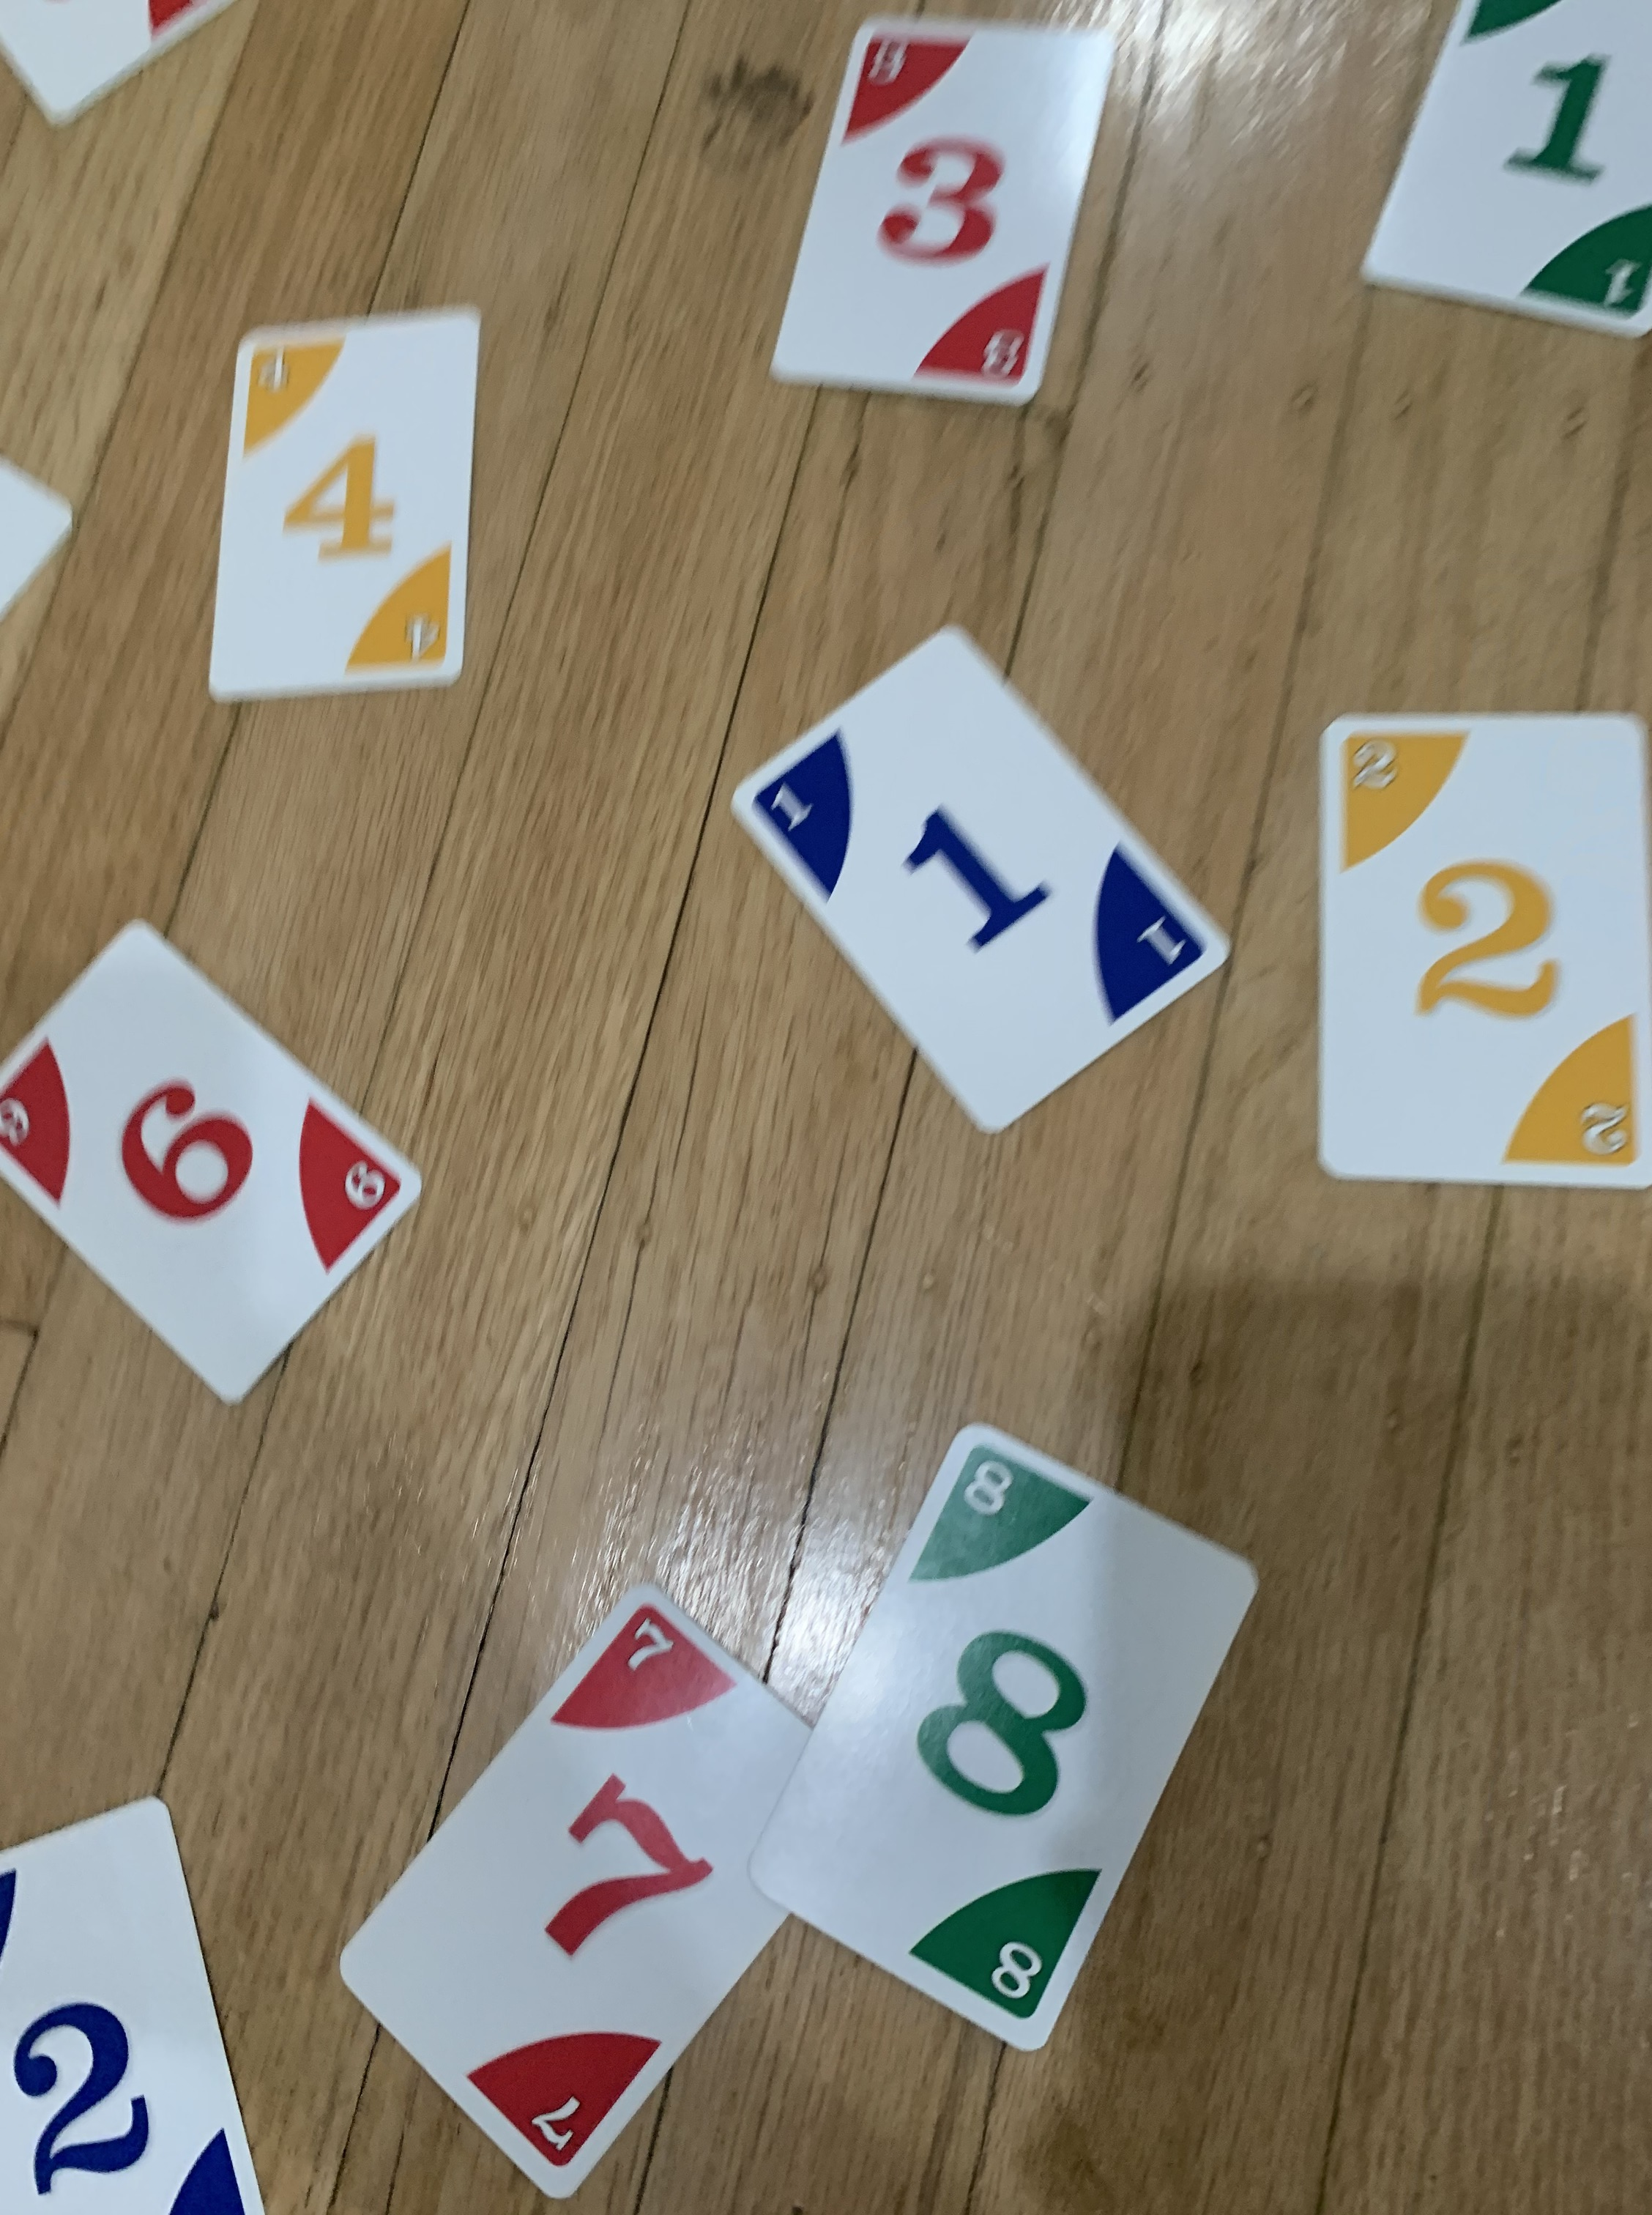eight: (743, 1418, 1267, 2050)
four: (206, 300, 481, 701)
one: (732, 609, 1234, 1134), (1359, 5, 1652, 340)
seven: (340, 1578, 887, 2201)
six: (0, 920, 429, 1408)
three: (770, 14, 1119, 403)
two: (1314, 703, 1652, 1191), (0, 1791, 267, 2215)
